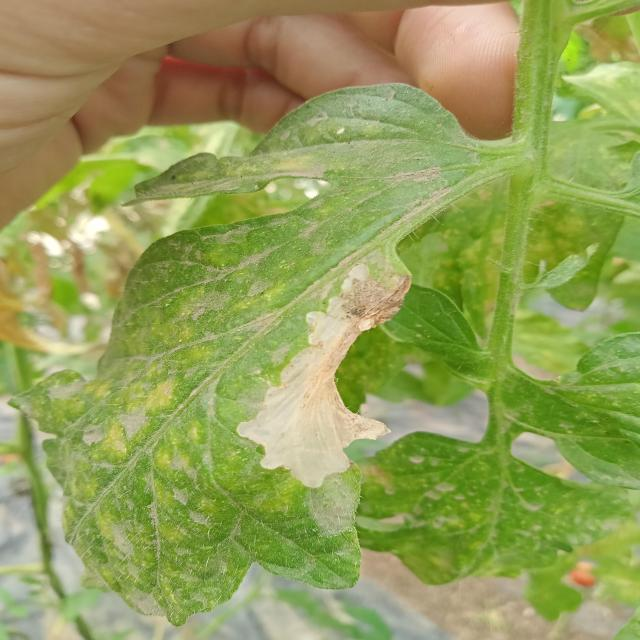Tuta absoluta: (227, 242, 462, 513)
